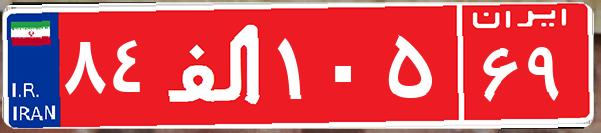0: (330, 28, 385, 110)
1: (273, 28, 330, 110)
4: (110, 28, 158, 105)
5: (385, 28, 445, 110)
6: (475, 38, 525, 113)
8: (57, 26, 110, 107)
9: (525, 38, 570, 115)
الف: (158, 15, 273, 115)
